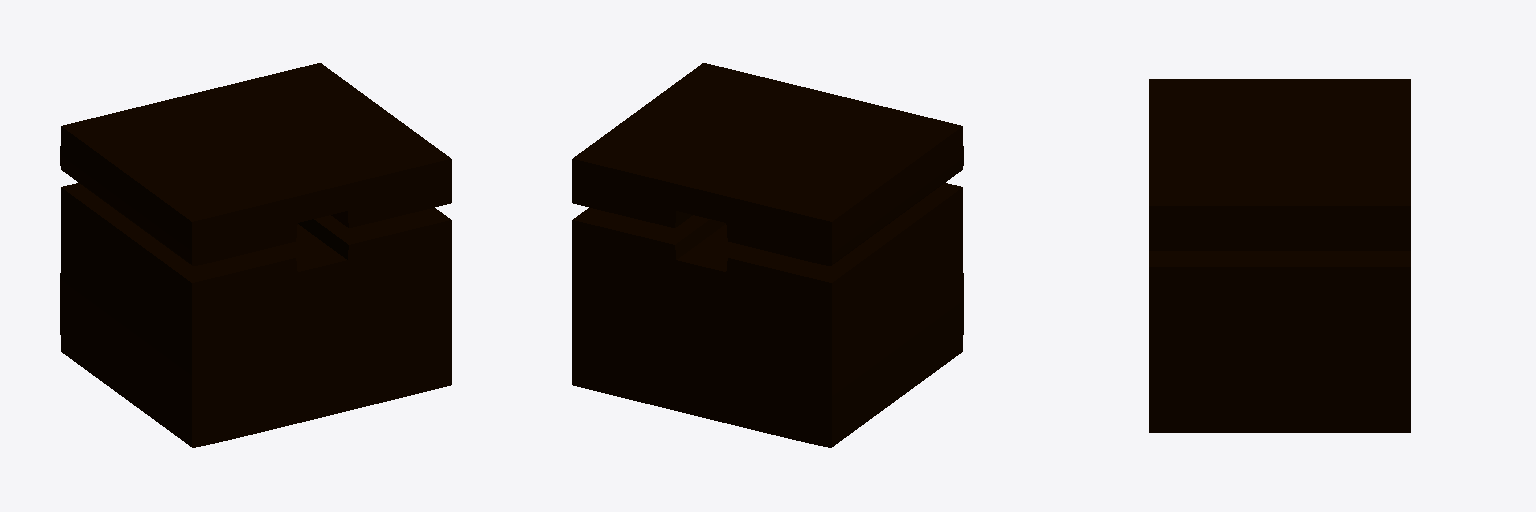
The model's file is chest.obj.
3 views of the same model, side by side, from view 1: azimuth 30°, elevation 25°; view 2: azimuth 150°, elevation 25°; view 3: azimuth 270°, elevation 25° (orthographic).
Visible parts, largest first — view 1: Curve_path3735; view 2: Curve_path3735; view 3: Curve_path3735.
Boxes of the visible parts, x1,y1,x2,y2 form: Curve_path3735: [60, 63, 451, 447]; Curve_path3735: [572, 63, 963, 447]; Curve_path3735: [1149, 79, 1410, 432].
Bounding box in the file's own units: 0.549 × 0.4585 × 0.48.